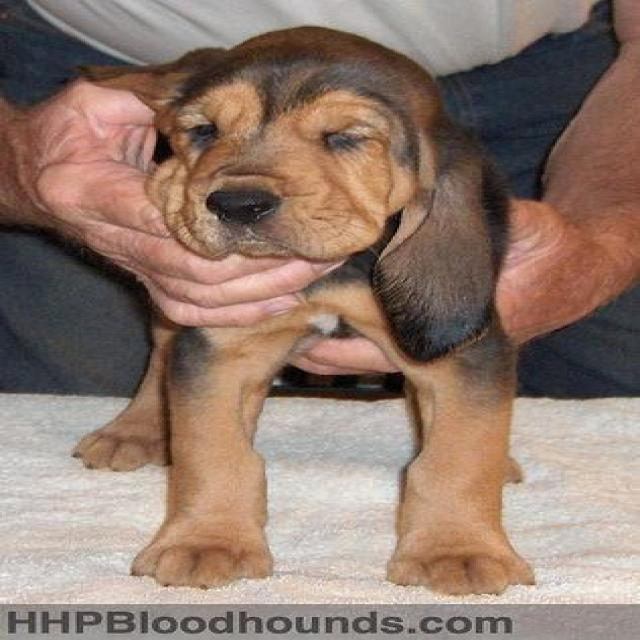bloodhound: (73, 22, 537, 598)
